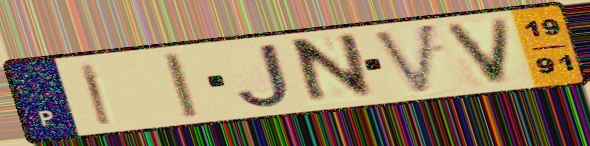I: (158, 50, 203, 121), (76, 61, 115, 128)
J: (233, 41, 296, 112)
N: (292, 30, 379, 109)
V: (439, 15, 515, 88), (369, 20, 440, 97)
